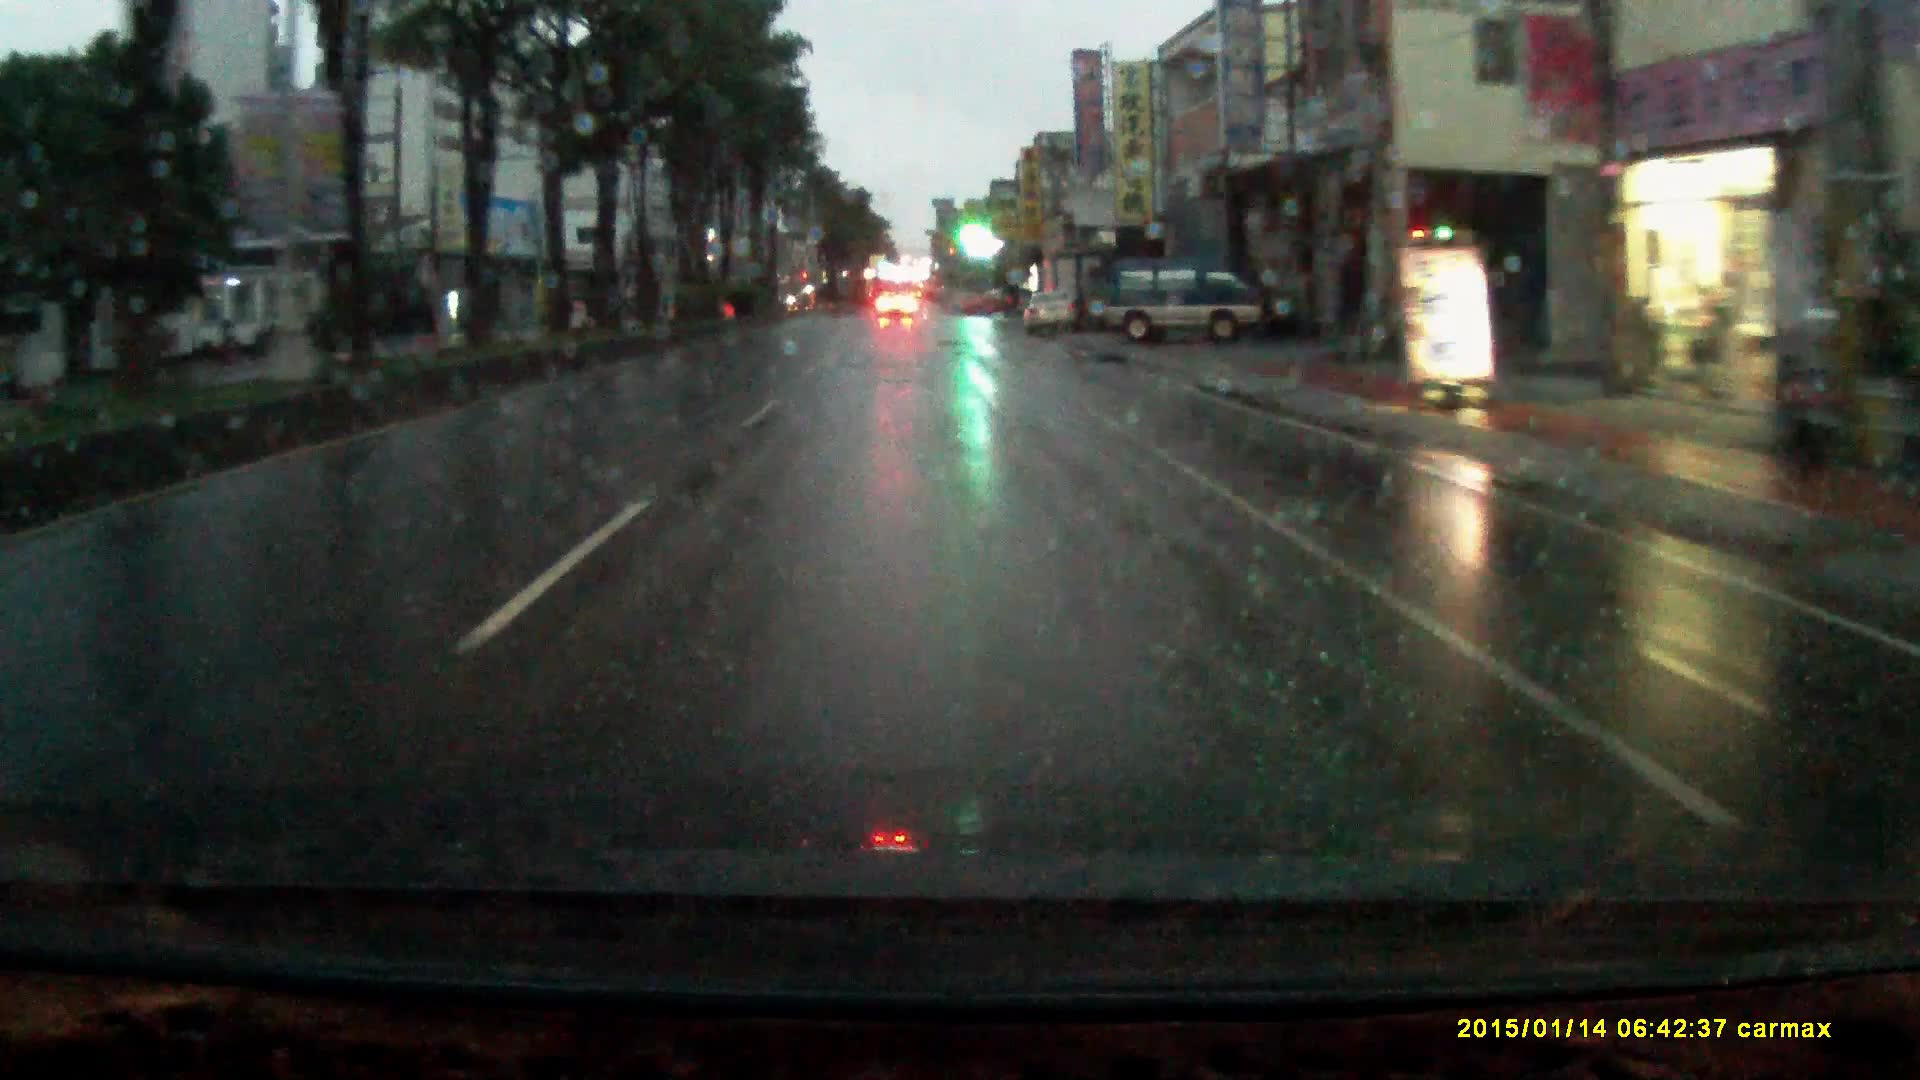vehicle: (1095, 265, 1274, 349), (1036, 247, 1106, 334), (1022, 295, 1080, 338), (877, 297, 918, 324)
